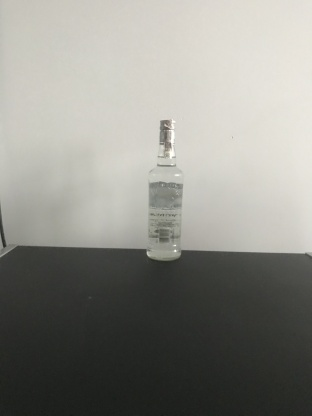nakretka: (157, 117, 177, 145)
